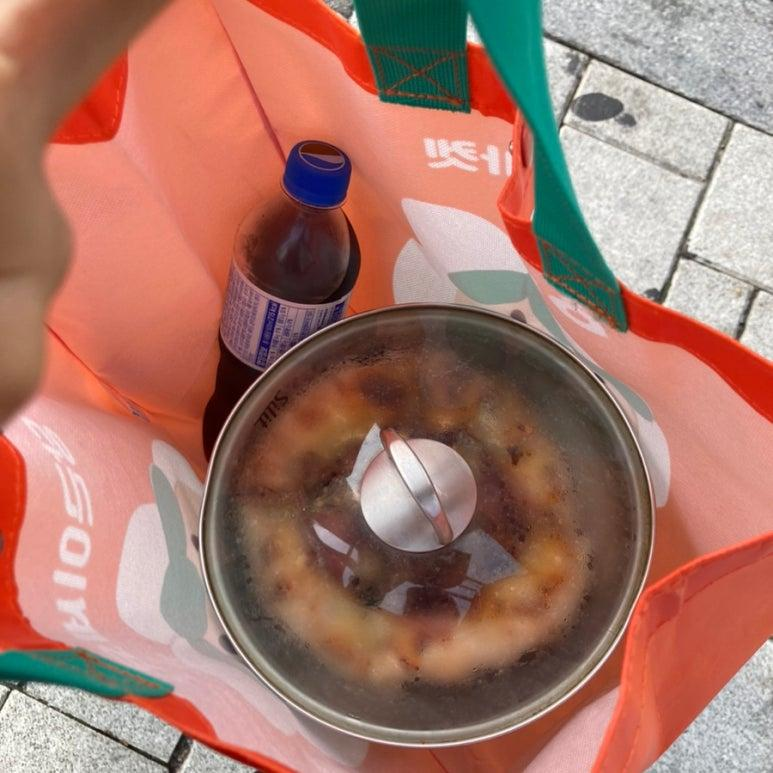Bottle: (202, 141, 358, 455)
Lunch Box: (201, 306, 653, 745)
